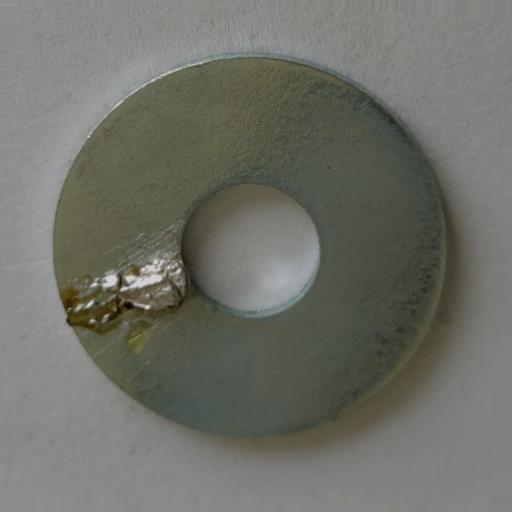excess_material: (65, 256, 189, 329)
